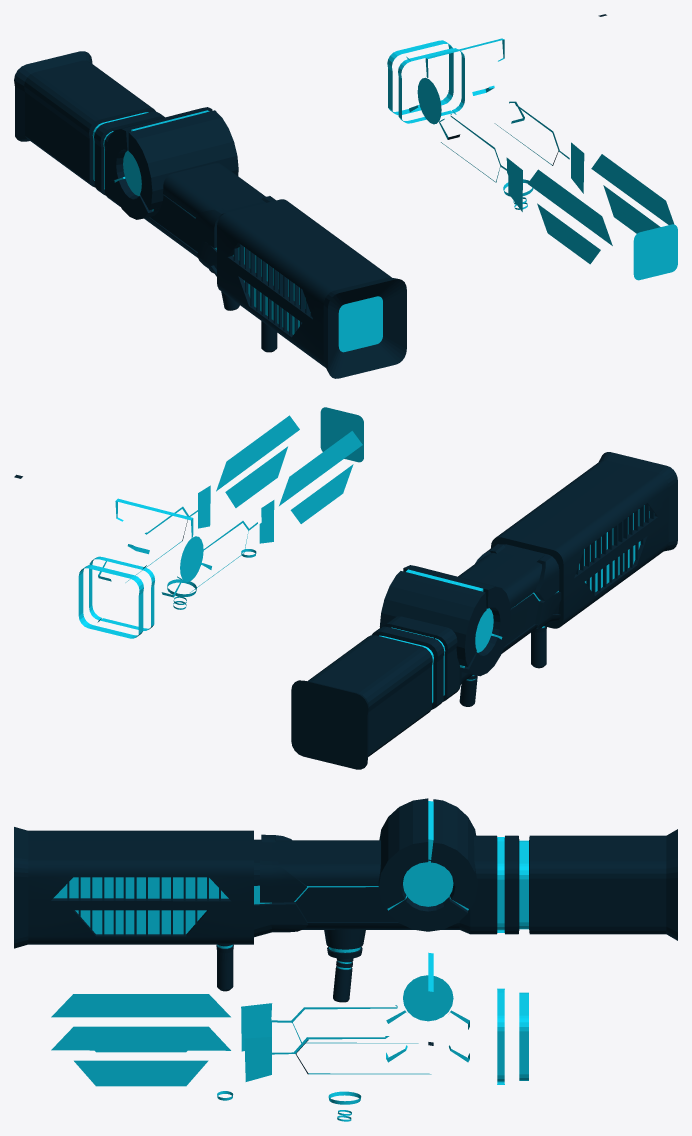
The model's file is Boop_Gun_.fbx.
3 views of the same model, one above another, from view 1: azimuth 30°, elevation 25°; view 2: azimuth 150°, elevation 25°; view 3: azimuth 270°, elevation 25° (orthographic). The views are drawn at different scales.
Parts seen in each view (by area): view 1: Boop_Gun1, Lights_for_Boop_Gun; view 2: Boop_Gun1, Lights_for_Boop_Gun; view 3: Boop_Gun1, Lights_for_Boop_Gun.
Boxes of the visible parts, x1=… form: Boop_Gun1: x1=14, y1=51, x2=406, y2=378; Lights_for_Boop_Gun: x1=387, y1=14, x2=677, y2=280; Boop_Gun1: x1=291, y1=452, x2=677, y2=769; Lights_for_Boop_Gun: x1=14, y1=407, x2=363, y2=638; Boop_Gun1: x1=14, y1=798, x2=677, y2=1002; Lights_for_Boop_Gun: x1=51, y1=952, x2=528, y2=1121.
Size of the model in its own units: 115 by 37.17 by 130.
